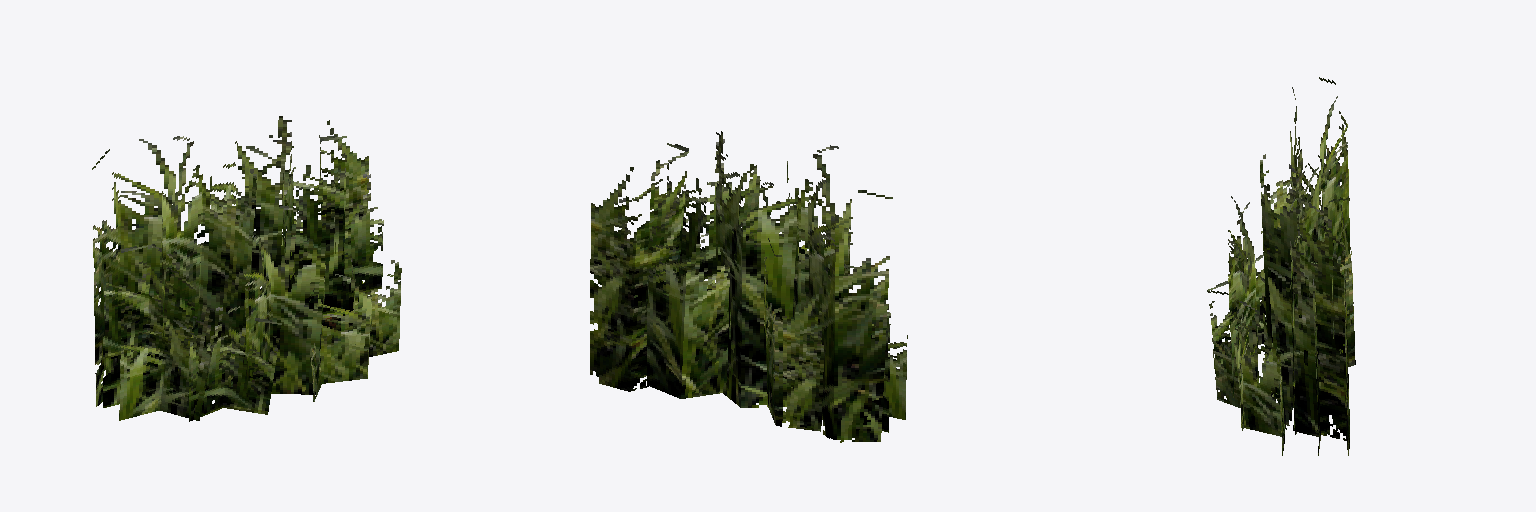
The picture shows the model from 3 angles: view 1: azimuth 30°, elevation 25°; view 2: azimuth 150°, elevation 25°; view 3: azimuth 270°, elevation 25°; orthographic projection.
Parts seen in each view (by area): view 1: material_0; view 2: material_0; view 3: material_0.
Boxes of the visible parts, x1=… form: material_0: x1=92, y1=116, x2=401, y2=421; material_0: x1=590, y1=131, x2=907, y2=442; material_0: x1=1207, y1=77, x2=1355, y2=455.
Bounding box in the file's own units: 49.76 × 45 × 22.43.
1 materials, 1 textured.